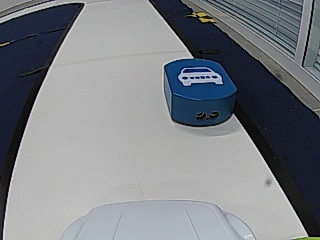safety: (178, 65, 224, 86)
